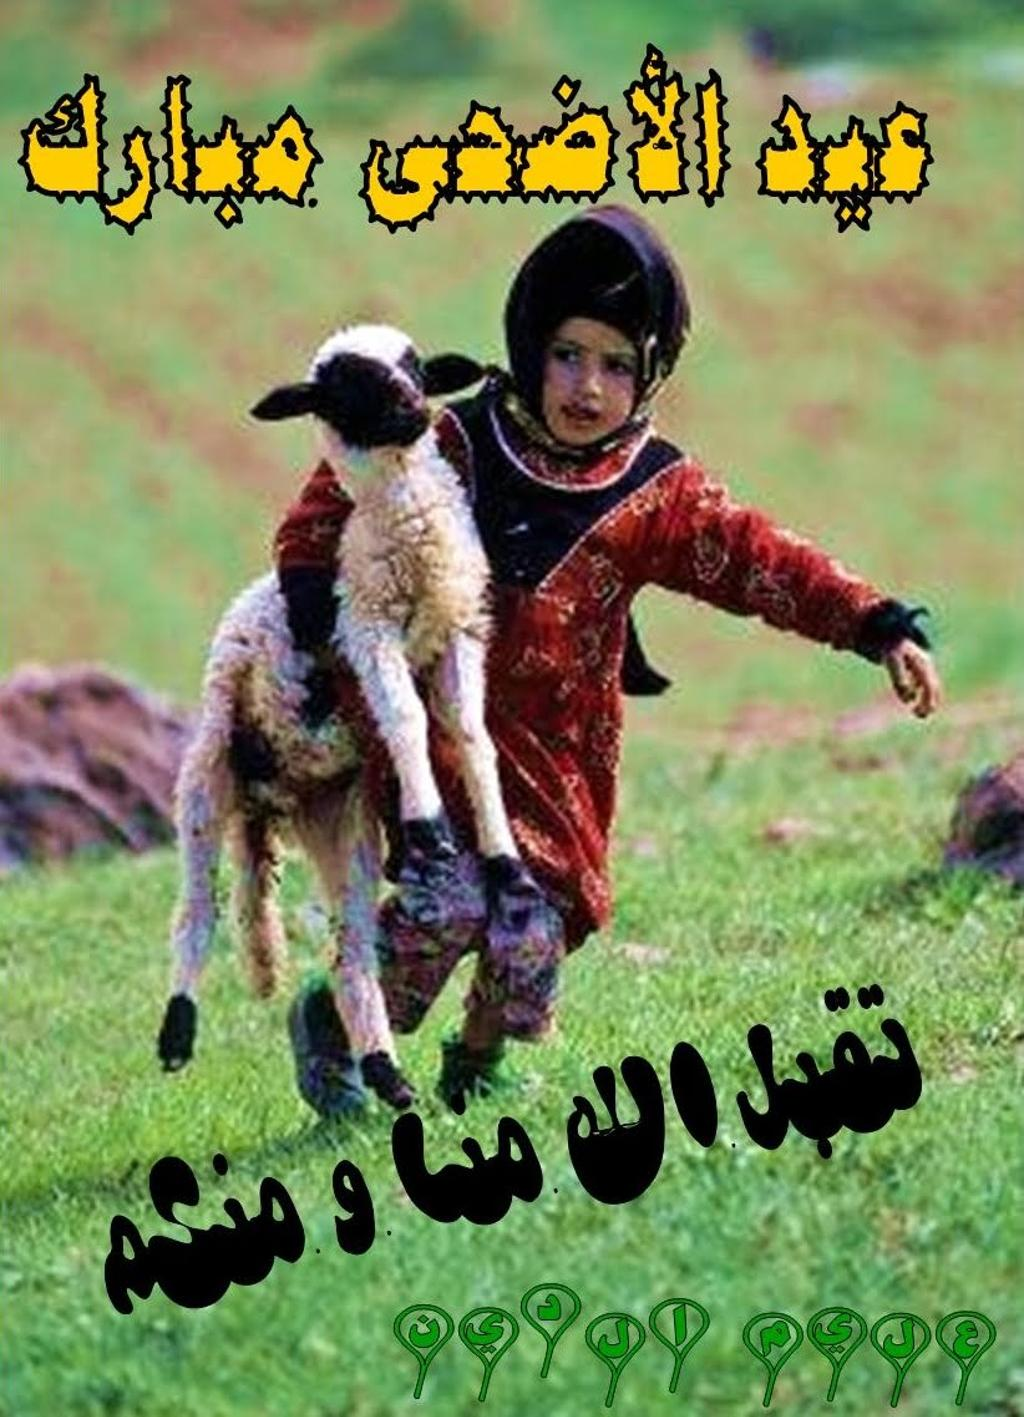face: (534, 304, 636, 445)
